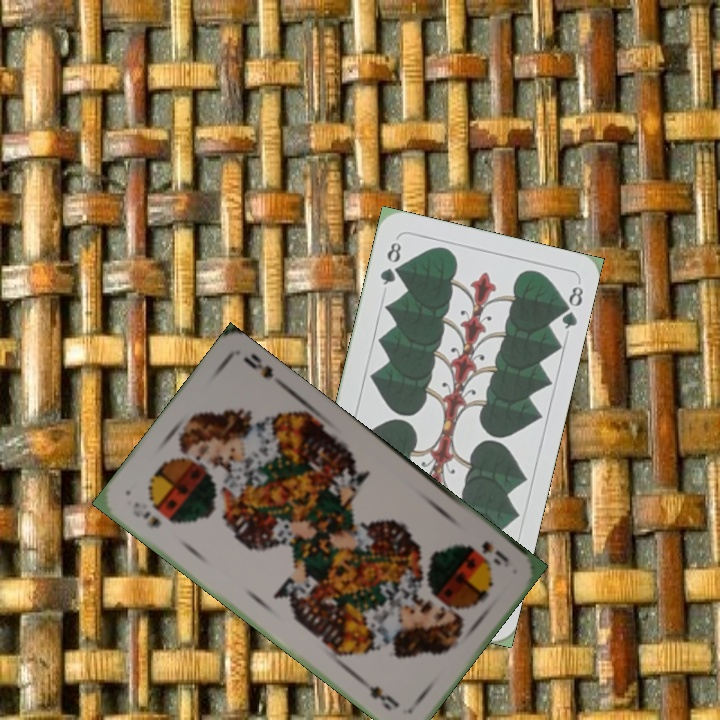G8: (376, 235, 404, 288)
SO: (464, 537, 512, 569), (129, 497, 164, 531)
